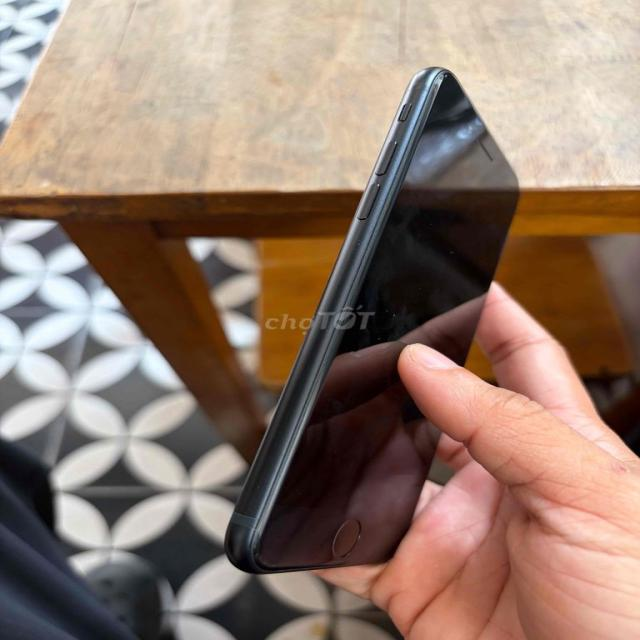scratch: (212, 63, 528, 578)
